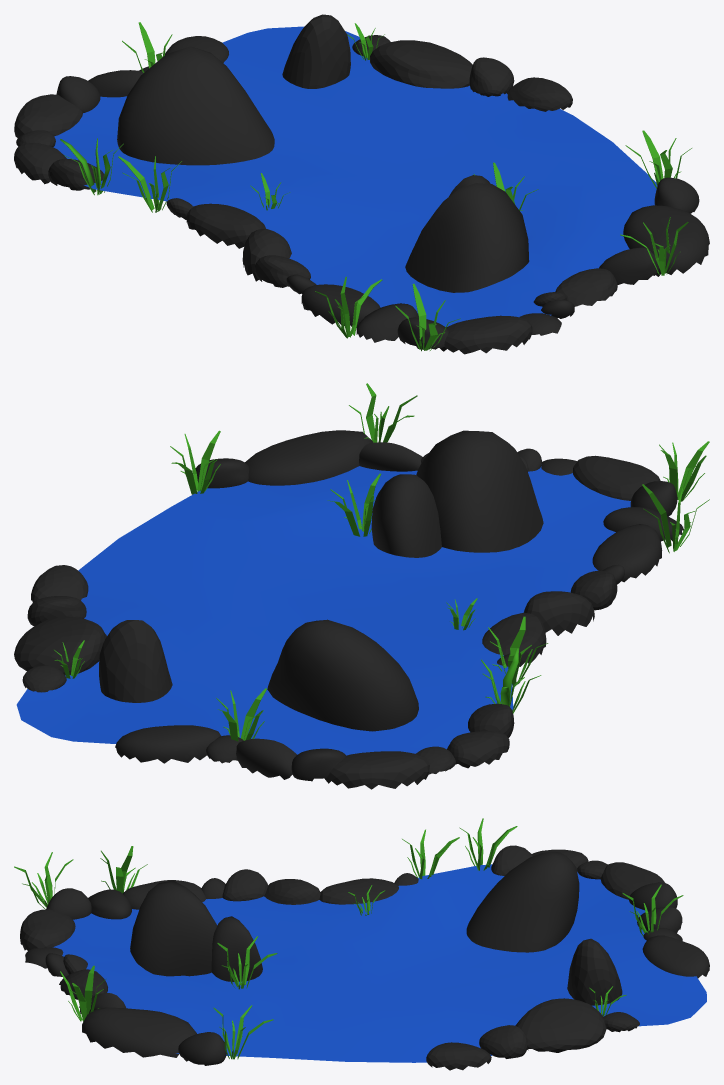
The model's file is pond_3.FBX.
3 renders of one model, top to bottom at view 1: azimuth 30°, elevation 25°; view 2: azimuth 150°, elevation 25°; view 3: azimuth 270°, elevation 25°, orthographic. The views are drawn at different scales.
Visible parts, largest first — view 1: Plane004, pond_3, Grass_009; view 2: Plane004, pond_3, Grass_009; view 3: Plane004, pond_3, Grass_009.
Boxes of the visible parts, x1,y1,x2,y2 form: Plane004: (53, 26, 657, 326); pond_3: (14, 14, 709, 354); Grass_009: (60, 22, 691, 351); Plane004: (16, 466, 630, 755); pond_3: (14, 430, 683, 789); Grass_009: (54, 383, 709, 741); Plane004: (53, 864, 706, 1062); pond_3: (20, 845, 709, 1070); Grass_009: (14, 818, 683, 1059).
Bounding box in the file's own units: 29.71 × 7.85 × 41.46.
